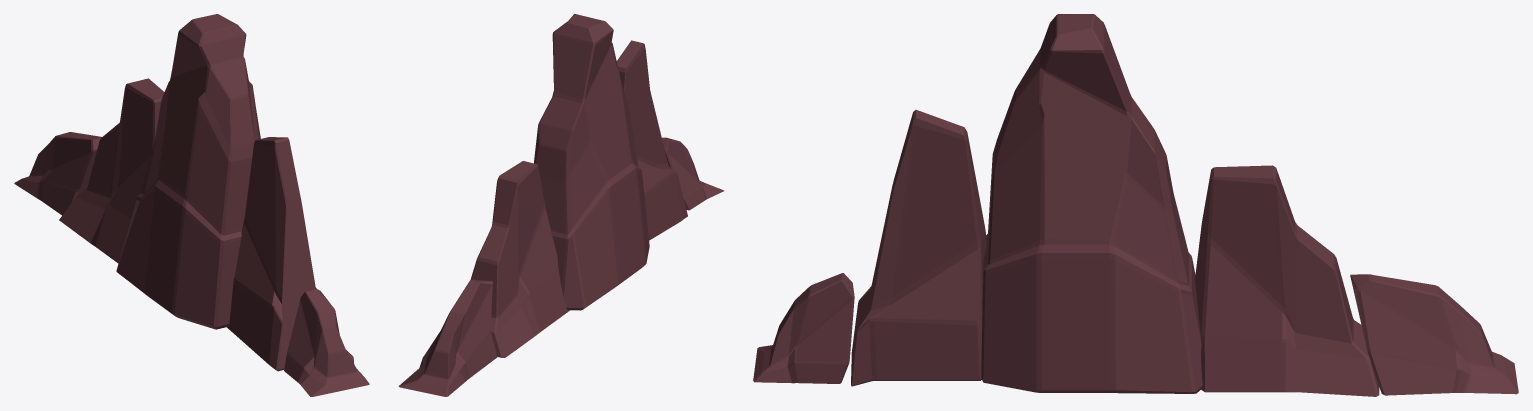
File: rocha - versão 5.fbx
3 renders of one model, left to right at view 1: azimuth 30°, elevation 25°; view 2: azimuth 150°, elevation 25°; view 3: azimuth 270°, elevation 25°, orthographic. The views are drawn at different scales.
Visible parts, largest first — view 1: rocha - versão 5; view 2: rocha - versão 5; view 3: rocha - versão 5.
Part boxes in pixels (left/top/right/bottom): rocha - versão 5: left=14, top=14, right=369, bottom=396; rocha - versão 5: left=398, top=14, right=723, bottom=396; rocha - versão 5: left=753, top=14, right=1518, bottom=396.
Size of the model in its own units: 257 by 639 by 1247.
